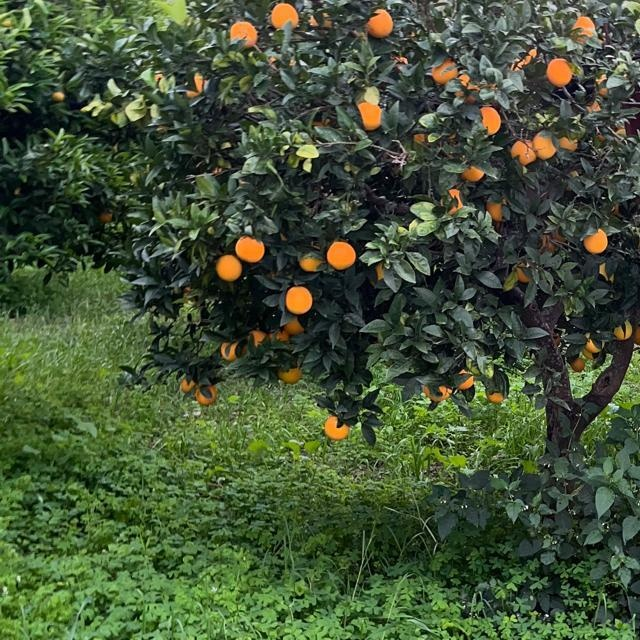orange: (267, 0, 299, 29), (227, 20, 261, 46), (327, 238, 355, 268), (356, 96, 382, 128), (432, 56, 460, 84), (235, 235, 265, 261), (367, 6, 393, 36), (571, 11, 597, 39), (215, 253, 241, 279), (285, 286, 311, 312), (367, 7, 391, 35), (537, 227, 565, 251), (323, 413, 349, 437), (511, 137, 537, 161), (546, 57, 570, 83), (481, 106, 501, 136), (584, 229, 608, 253), (506, 262, 528, 286), (187, 69, 205, 97), (616, 320, 638, 342), (451, 366, 473, 388), (445, 187, 461, 215), (195, 383, 217, 403), (297, 251, 319, 271), (486, 200, 506, 222), (536, 133, 556, 153), (283, 318, 303, 336), (581, 338, 599, 358), (94, 207, 114, 225), (463, 165, 485, 181), (279, 365, 301, 381), (219, 341, 237, 359), (558, 135, 576, 153), (522, 47, 540, 65), (427, 384, 445, 400), (179, 377, 195, 395), (409, 130, 427, 146), (485, 389, 505, 403), (599, 262, 613, 282), (248, 328, 264, 344), (635, 236, 640, 254)
